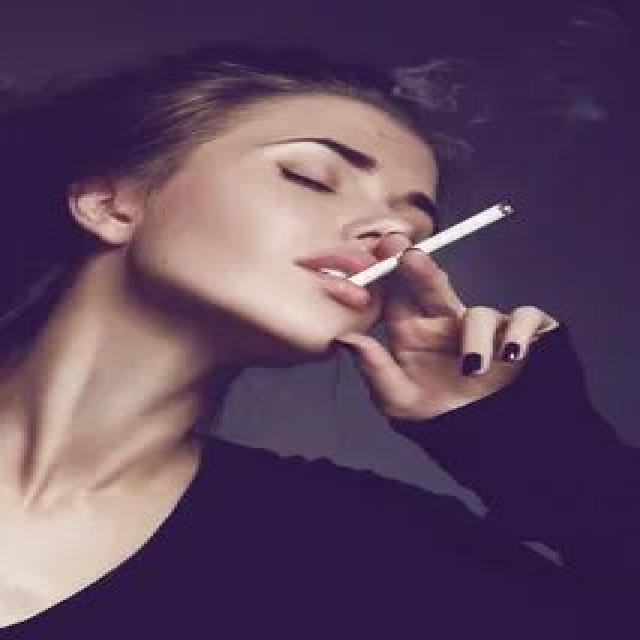cigarette: (339, 200, 532, 292)
